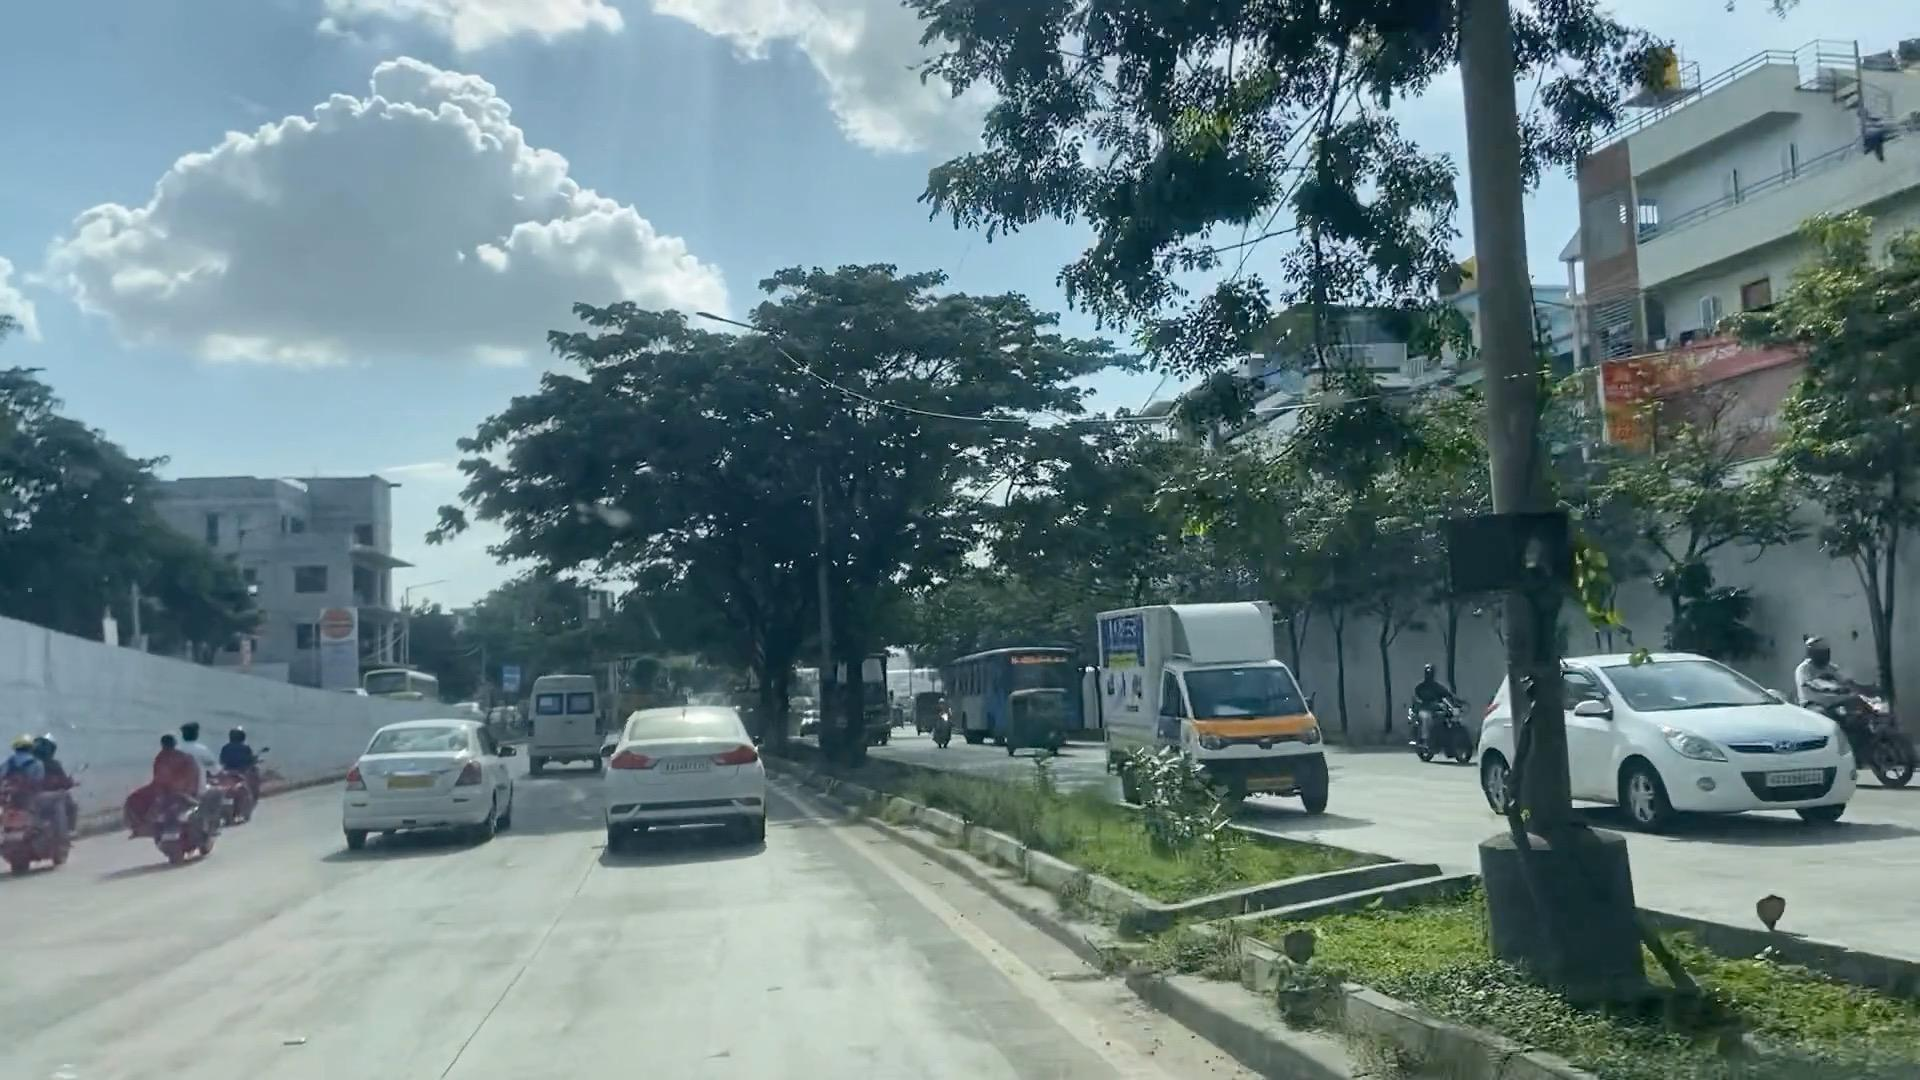LMV: (611, 723, 770, 829), (345, 728, 497, 829), (0, 723, 73, 893), (156, 725, 223, 887)
